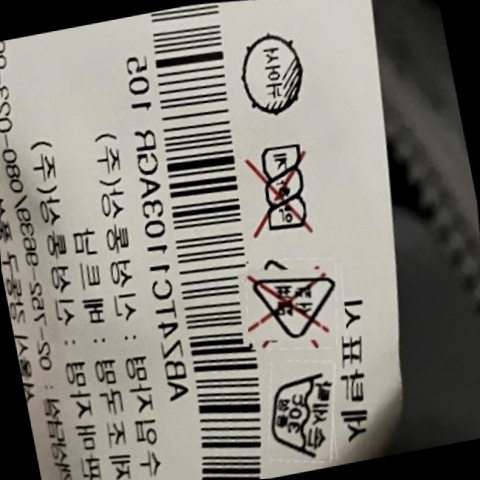DN_wring: (236, 133, 325, 250)
dry_flat_in_shade: (227, 21, 318, 126)
hand_wash: (257, 356, 342, 469)
non_chlorine_bleach: (244, 253, 340, 350)
